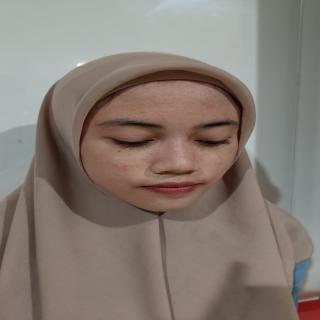Sedih: (81, 74, 253, 217)
